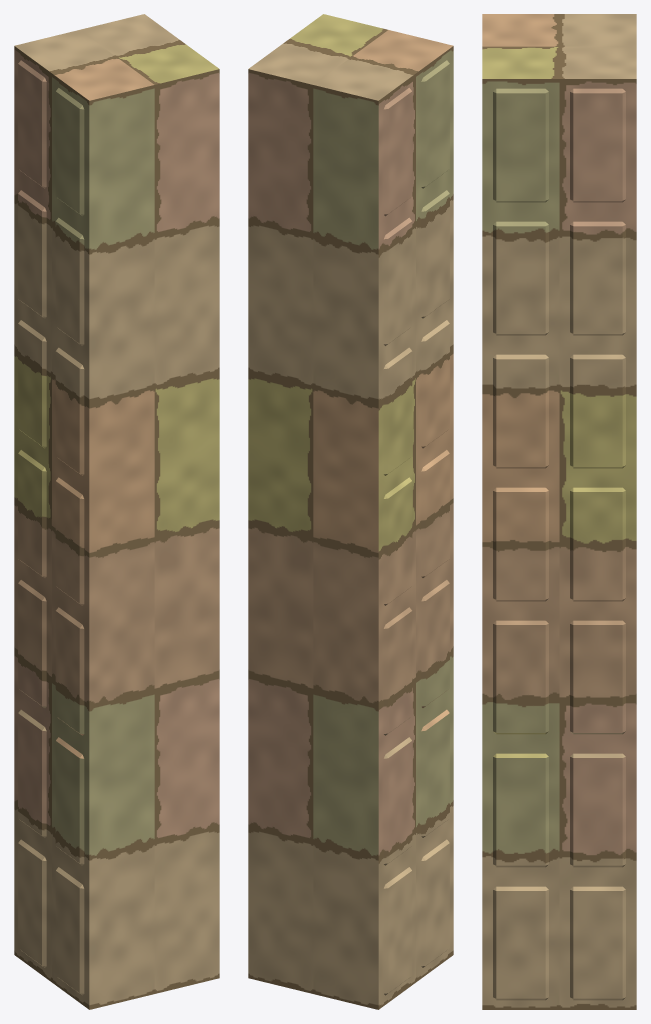
File: Kit_Stone_Joint.fbx
3 views of the same model, side by side, from view 1: azimuth 30°, elevation 25°; view 2: azimuth 150°, elevation 25°; view 3: azimuth 270°, elevation 25° (orthographic). The views are drawn at different scales.
Visible parts, largest first — view 1: Kit_Stone_Joint_LOD0; view 2: Kit_Stone_Joint_LOD0; view 3: Kit_Stone_Joint_LOD0.
Part boxes in pixels (x1,y1,x2,y2): Kit_Stone_Joint_LOD0: (14,14,219,1009); Kit_Stone_Joint_LOD0: (248,14,453,1009); Kit_Stone_Joint_LOD0: (482,14,636,1009).
Size of what is drawn, in the model's own units: 0.47 by 3 by 0.45.
